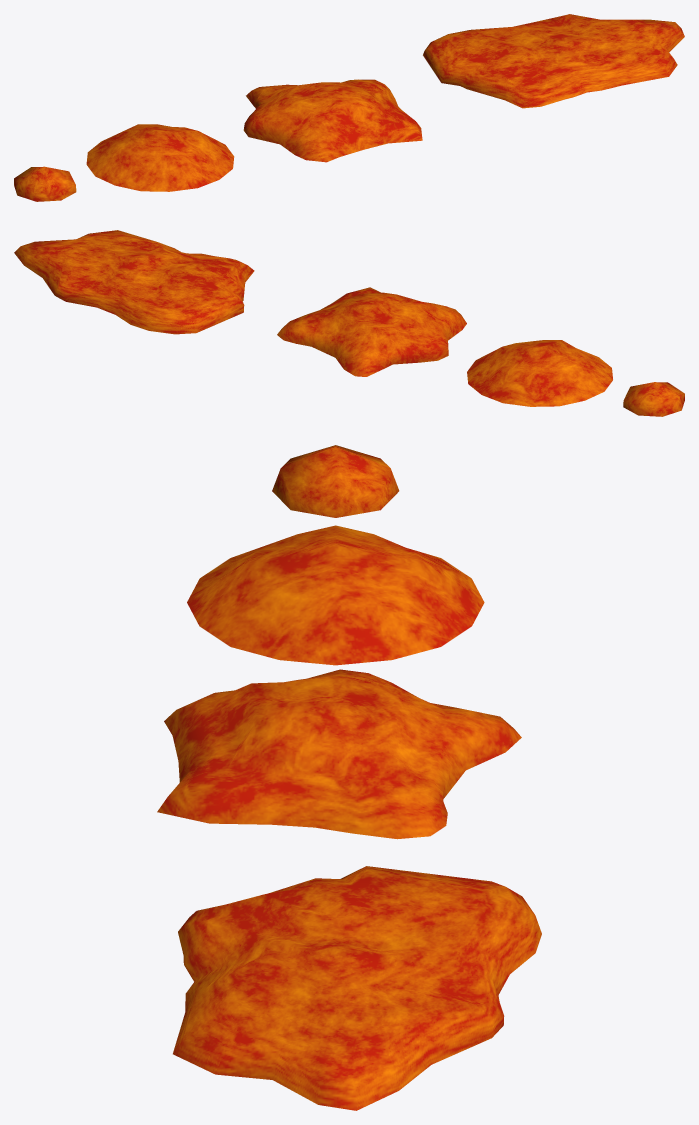
Rendered from LavaDroplets.fbx.
3 renders of one model, top to bottom at view 1: azimuth 30°, elevation 25°; view 2: azimuth 150°, elevation 25°; view 3: azimuth 270°, elevation 25°, orthographic. The views are drawn at different scales.
Visible parts, largest first — view 1: LavaDroplet_4, LavaDroplet_3, LavaDroplet_1, LavaDroplet_2; view 2: LavaDroplet_4, LavaDroplet_3, LavaDroplet_1, LavaDroplet_2; view 3: LavaDroplet_4, LavaDroplet_3, LavaDroplet_1, LavaDroplet_2.
Part boxes in pixels (x1=…): LavaDroplet_4: x1=423, y1=14, x2=684, y2=108; LavaDroplet_3: x1=243, y1=79, x2=422, y2=162; LavaDroplet_1: x1=86, y1=124, x2=234, y2=191; LavaDroplet_2: x1=14, y1=166, x2=76, y2=201; LavaDroplet_4: x1=14, y1=230, x2=254, y2=334; LavaDroplet_3: x1=277, y1=287, x2=466, y2=376; LavaDroplet_1: x1=467, y1=340, x2=612, y2=406; LavaDroplet_2: x1=623, y1=382, x2=684, y2=416; LavaDroplet_4: x1=173, y1=866, x2=541, y2=1110; LavaDroplet_3: x1=157, y1=669, x2=521, y2=839; LavaDroplet_1: x1=187, y1=525, x2=484, y2=665; LavaDroplet_2: x1=272, y1=445, x2=399, y2=517.
Size of the model in its own units: 2.95 by 0.1324 by 0.7415.
